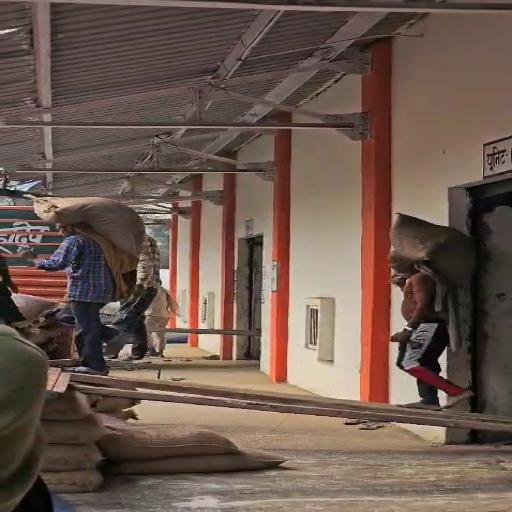bag: (384, 207, 488, 291), (30, 194, 157, 258)
